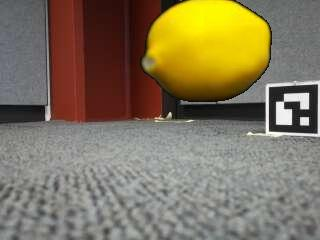lemon: (147, 1, 273, 103)
